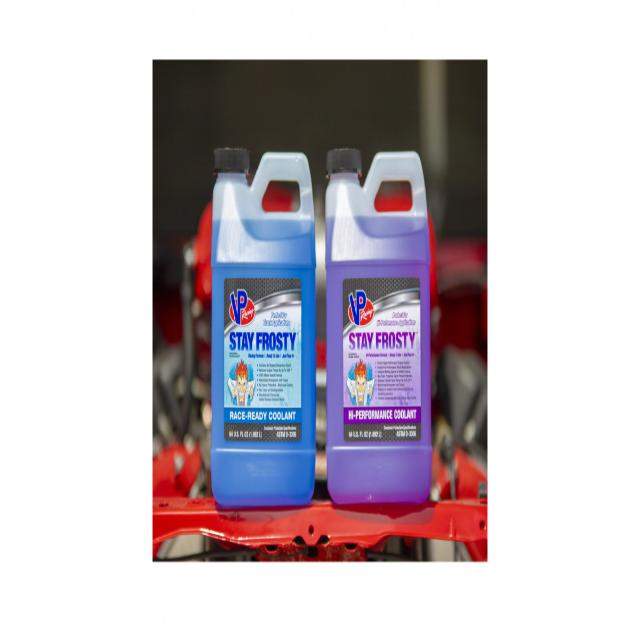coolant: (322, 142, 433, 508), (209, 142, 318, 510)
